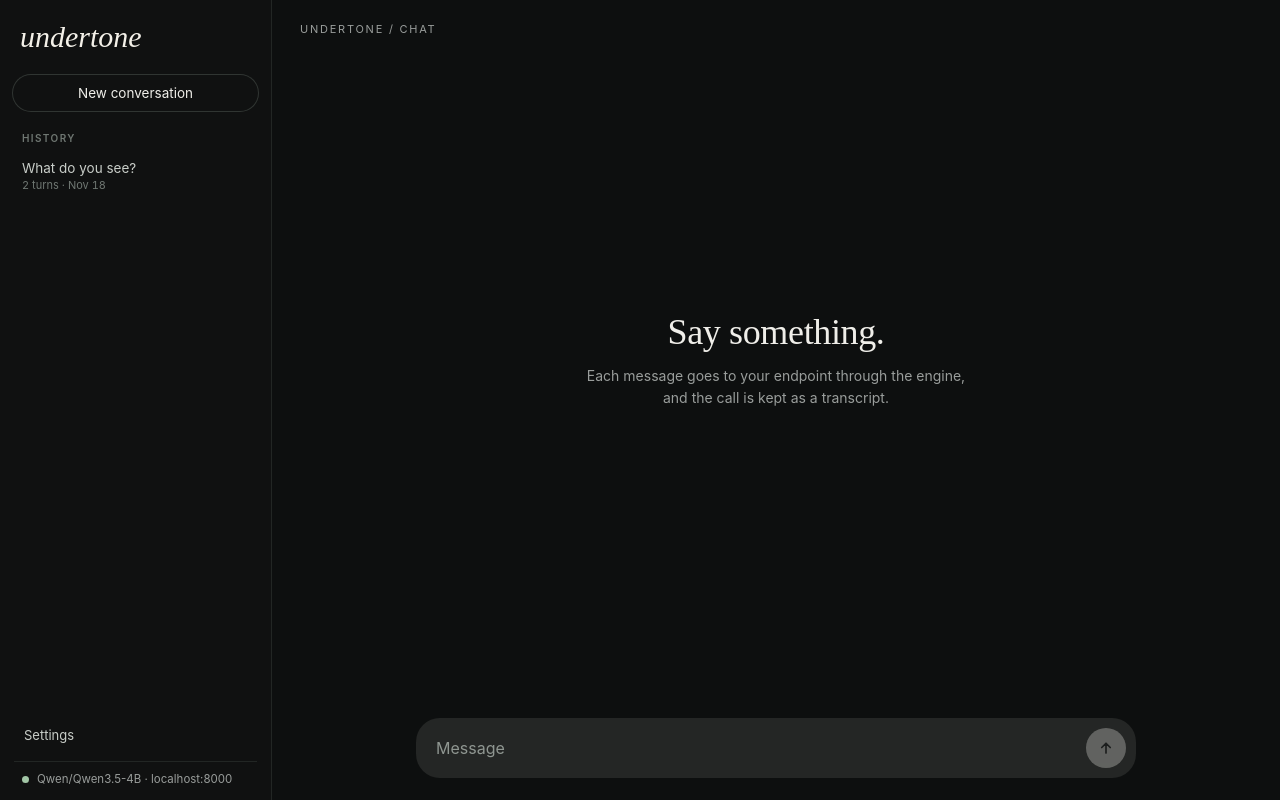
Scenario: Inside the model › is not there at all when readings are off
The image size is (1280, 800).
Click the button "What do you see? 2 turns · Nov 18" at (136, 176), box [12, 152, 259, 200]
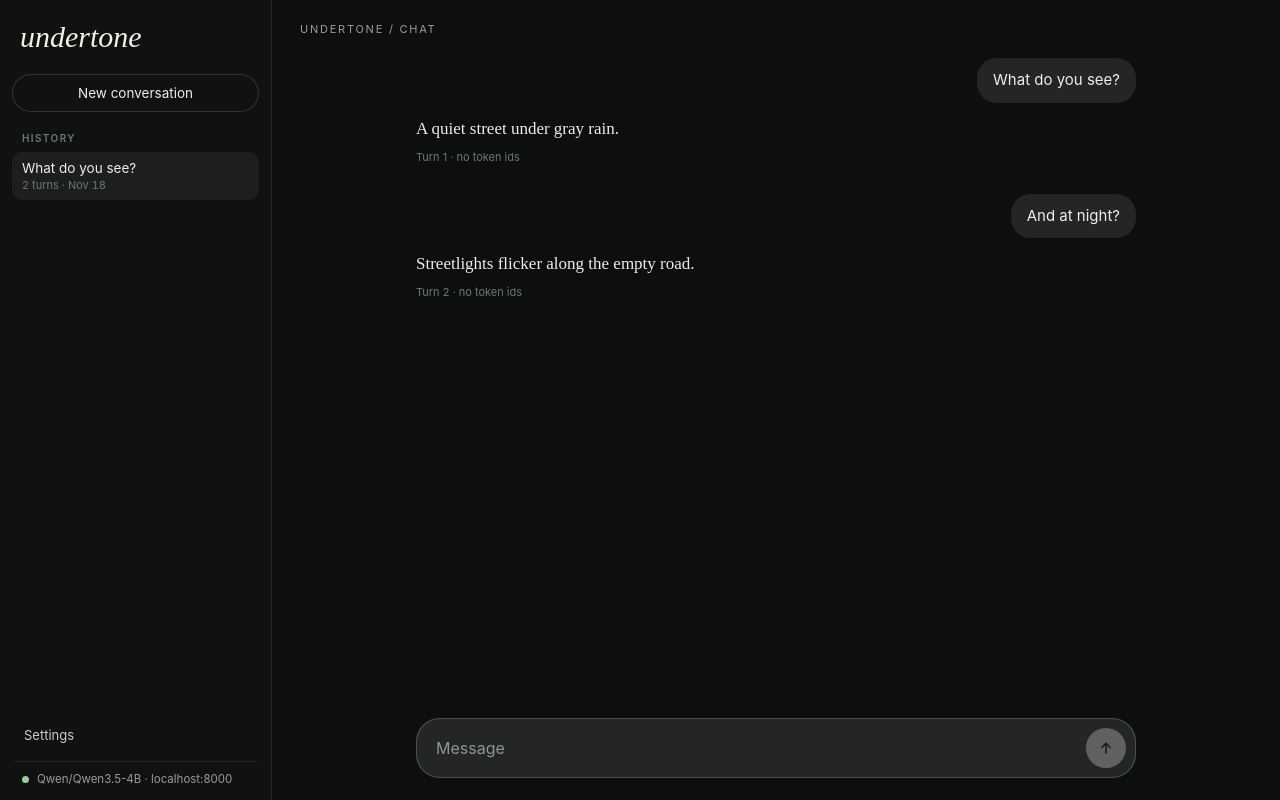
Expected: the text "And at night?" is shown, [1011, 194, 1136, 238]
